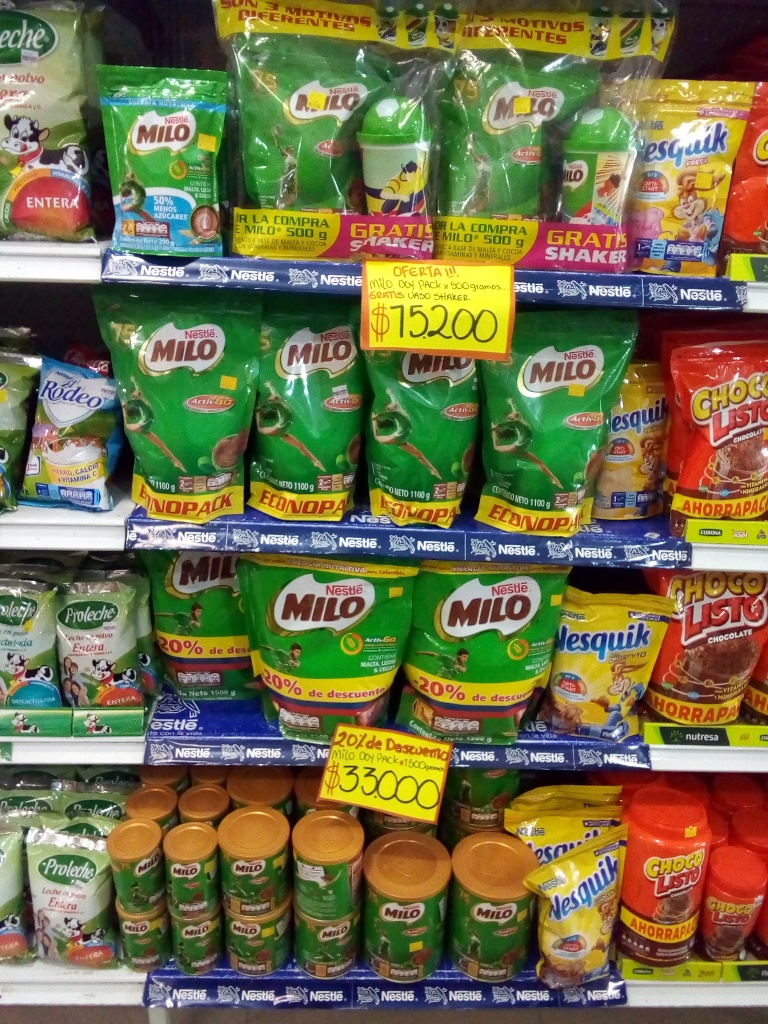COL0170103DYP1,500: (651, 560, 763, 724)
COL0170103DYP44000: (664, 342, 768, 517)
COL0170103TRR00100: (621, 788, 714, 966)
COL0170103TRR30000: (709, 844, 766, 956)
COL0170203DYP50000: (226, 24, 369, 212)
COL0170203LAT20000: (107, 818, 163, 914)
COL0170203LAT40000: (290, 899, 364, 979)
COL0170205DYP20000: (79, 52, 224, 252)
COL0170305DYP20000: (608, 74, 743, 270)
COL0170306DYP20000: (602, 352, 671, 525)
